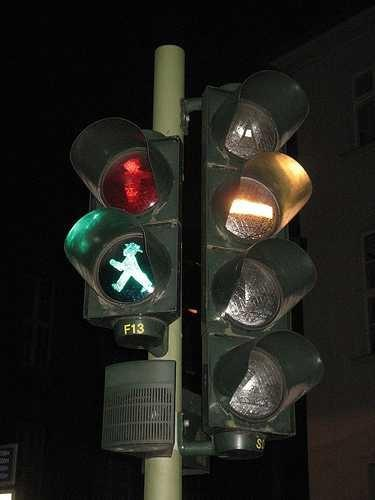green: (69, 211, 179, 314)
red: (75, 116, 178, 219)
